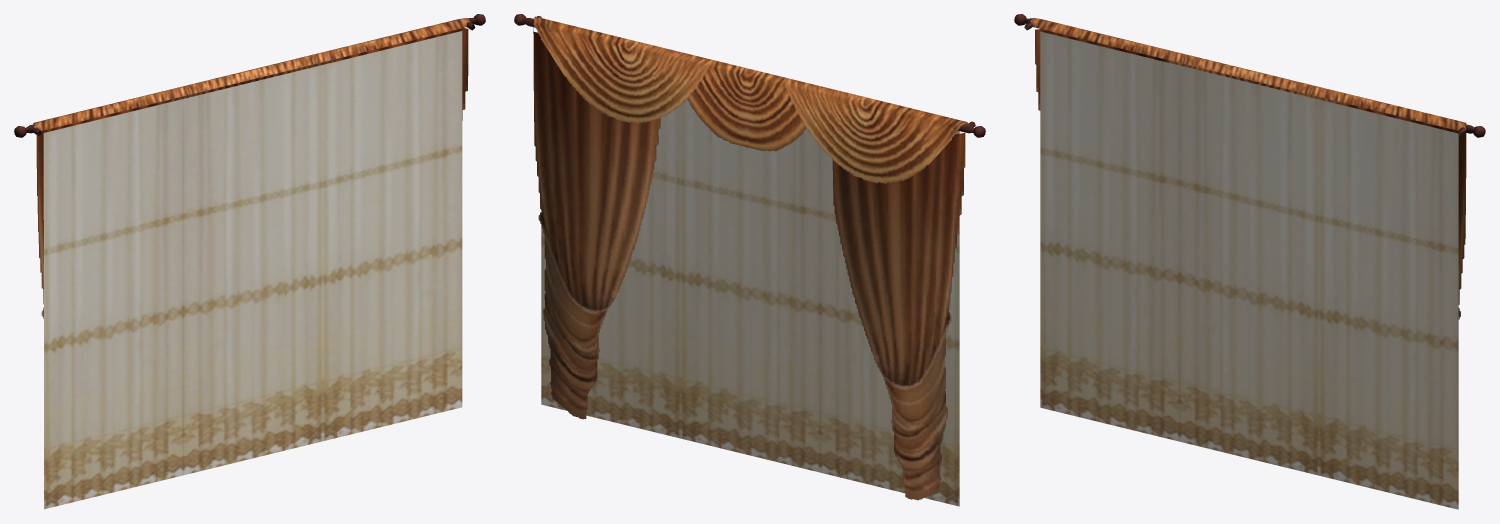
The model's file is furni_0200333.FBX.
3 renders of one model, left to right at view 1: azimuth 30°, elevation 25°; view 2: azimuth 150°, elevation 25°; view 3: azimuth 330°, elevation 25°, orthographic.
Parts seen in each view (by area): view 1: furni_0200333; view 2: furni_0200333; view 3: furni_0200333.
Part boxes in pixels (box(x1,y1,x2,y2)): furni_0200333: box(14, 14, 485, 509); furni_0200333: box(514, 14, 985, 506); furni_0200333: box(1014, 14, 1485, 509).
Size of the model in its own units: 353 by 278 by 12.49.
Materials: 2 (2 with a texture image).
